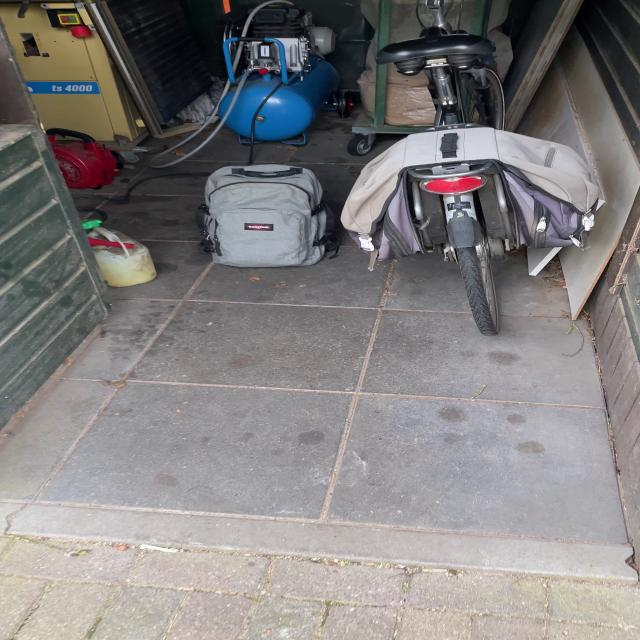backpack: (189, 160, 349, 272)
